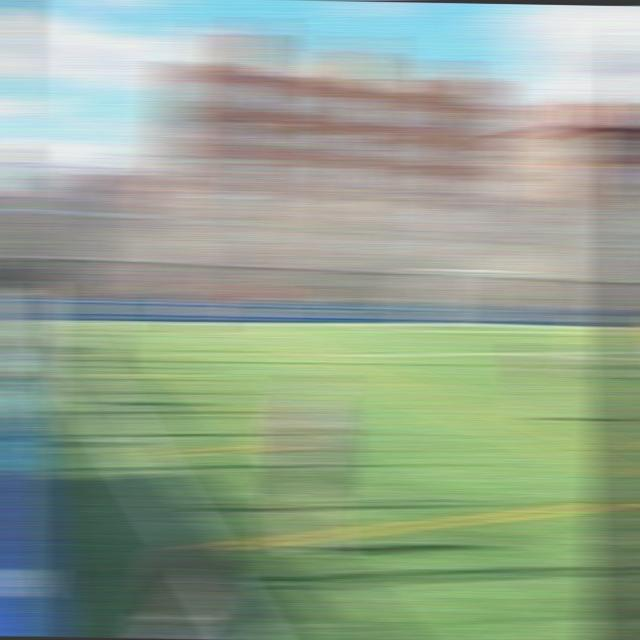bigarea_bottom_inner: (305, 344, 343, 368)
bigarea_bottom_outter: (217, 314, 254, 334)
corner: (33, 314, 68, 334)
smallarea_bottom_outter: (358, 317, 395, 332)
smallarea_top_inner: (593, 326, 629, 340)
smallarea_top_outter: (555, 322, 589, 332)
